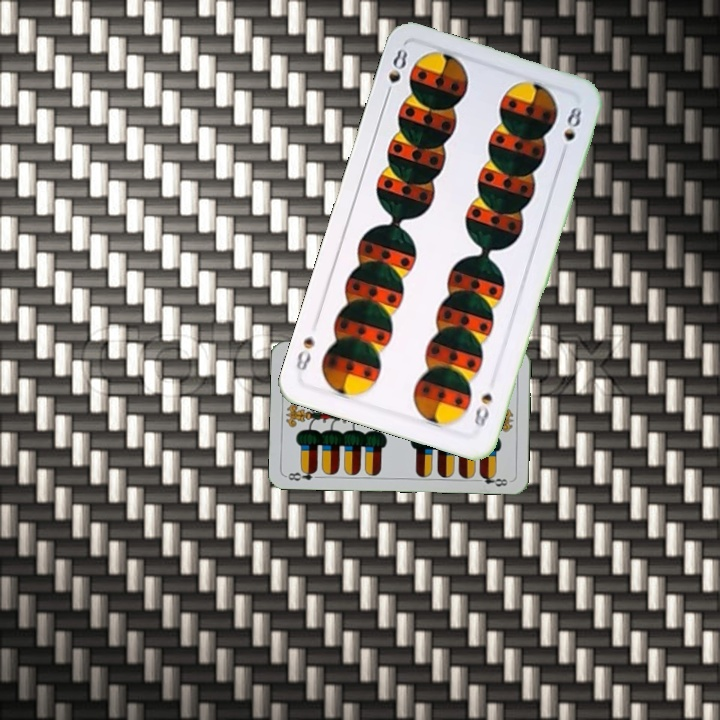E8: (283, 465, 319, 484)
S8: (381, 44, 411, 102), (470, 389, 495, 431)
